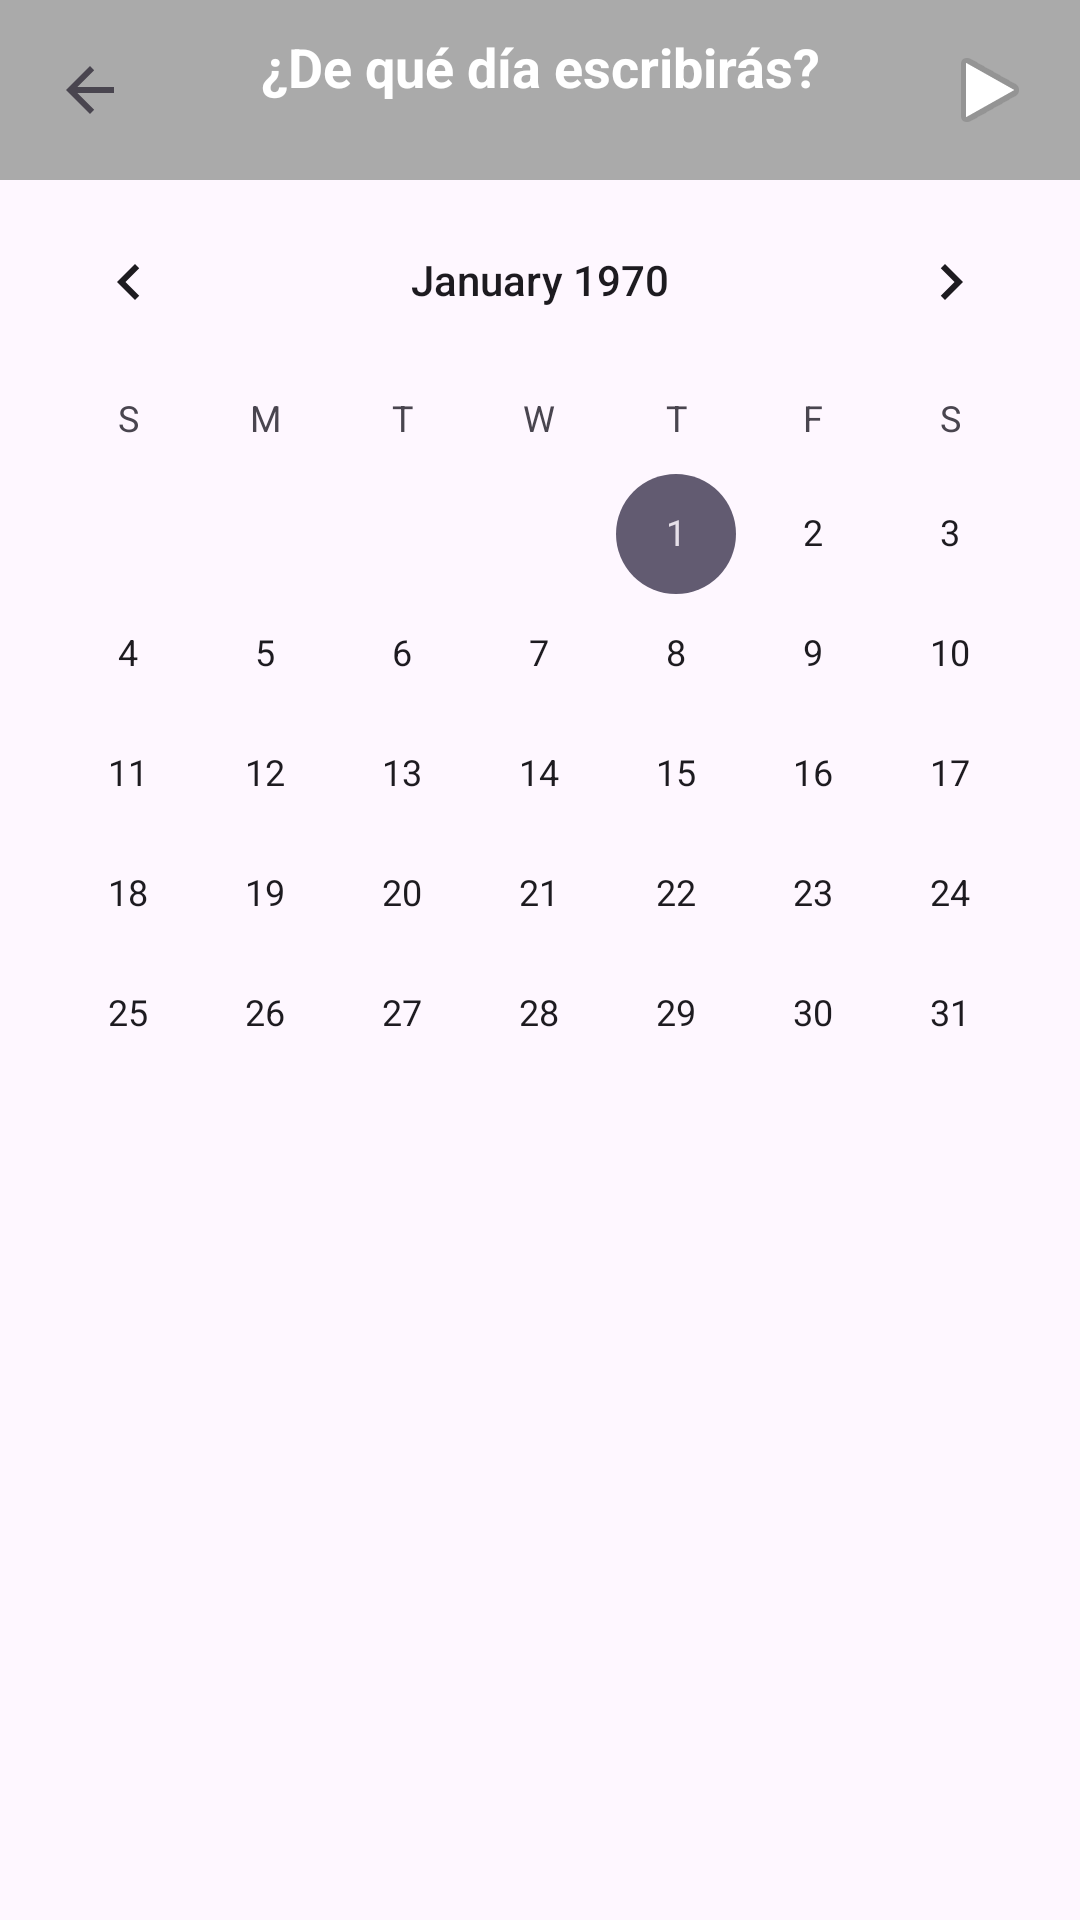

Where icons sit on this 1080x1920 app screen, as (x1, y1, x2, y2):
play: (966, 63, 1014, 117)
